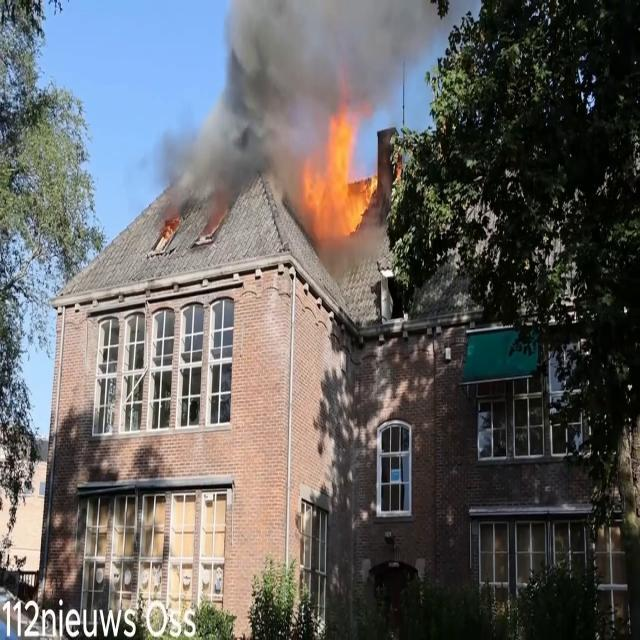Fire: (303, 105, 378, 240)
Smoke: (153, 0, 433, 231)
